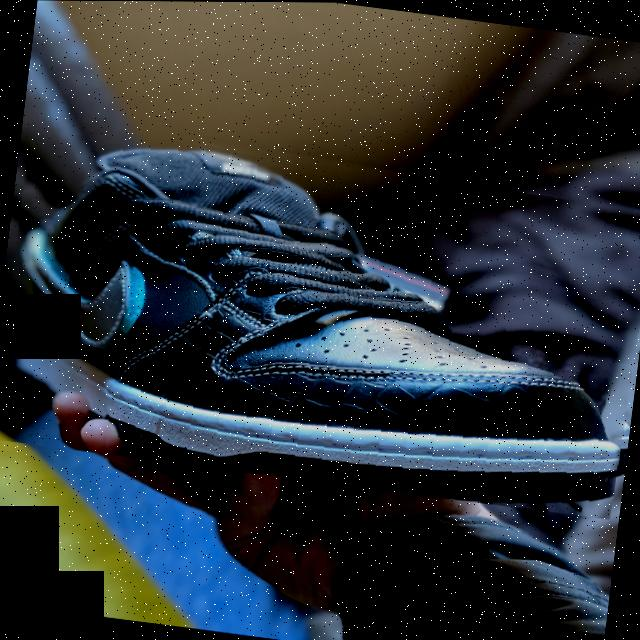shoe: (0, 109, 640, 519)
